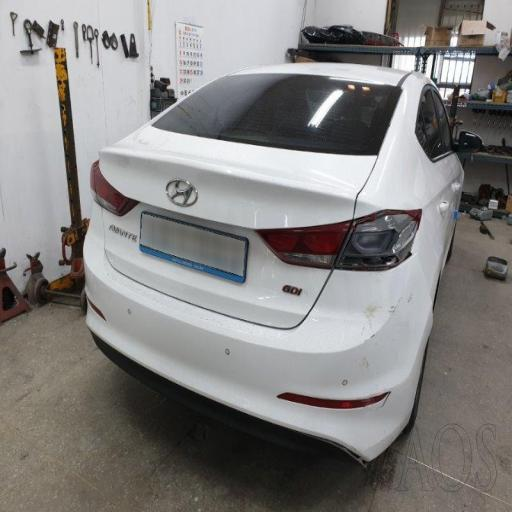scratch: (338, 296, 405, 422)
